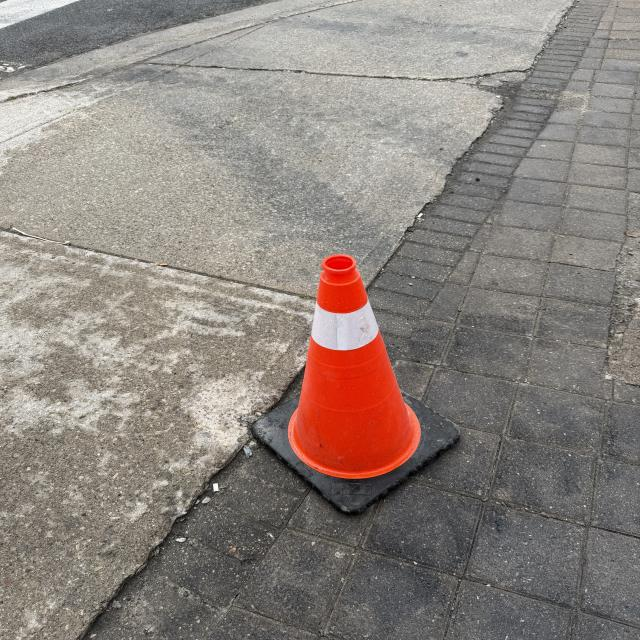Traffic Cone: (252, 252, 462, 515)
